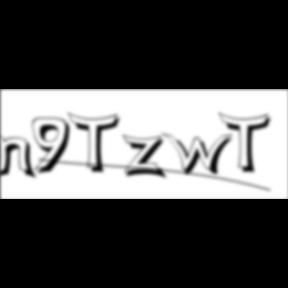9: (32, 117, 78, 177)
T: (68, 112, 126, 176), (219, 112, 277, 176)
n: (0, 132, 40, 181)
w: (162, 132, 240, 178)
z: (122, 134, 171, 182)
